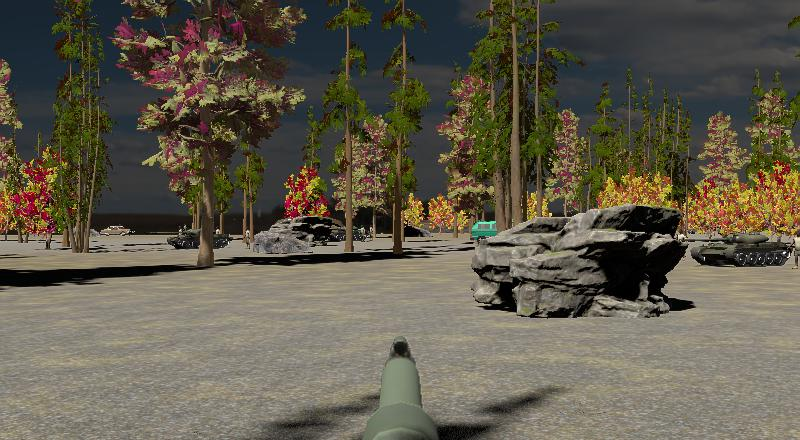Tank: (678, 230, 793, 268), (148, 225, 231, 250)
